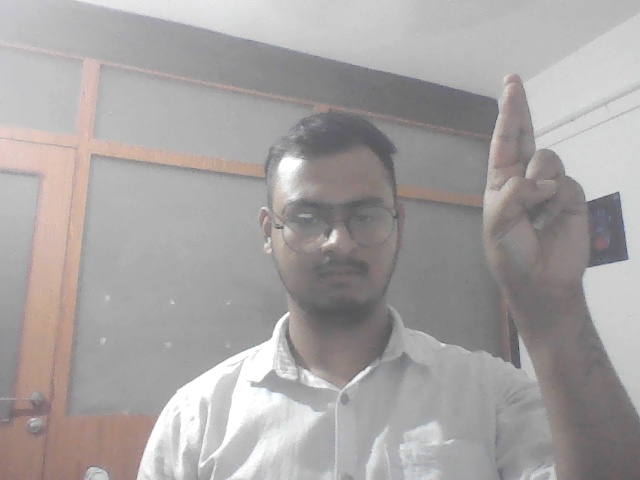GoodLuck: (478, 72, 597, 290)
